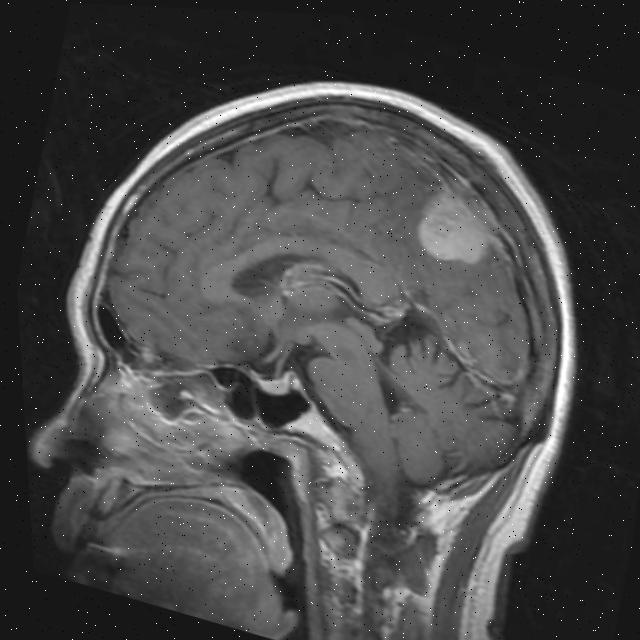Meningioma: (406, 184, 504, 276)
Pituitary: (254, 368, 293, 402)
